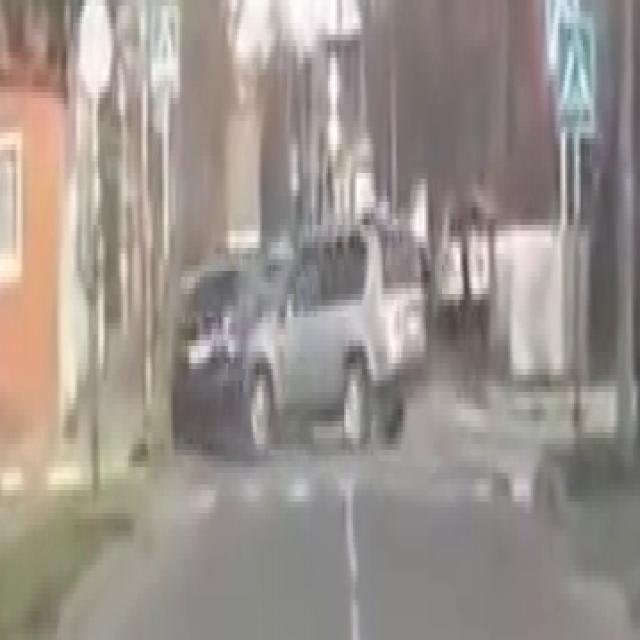accident: (182, 198, 395, 465)
